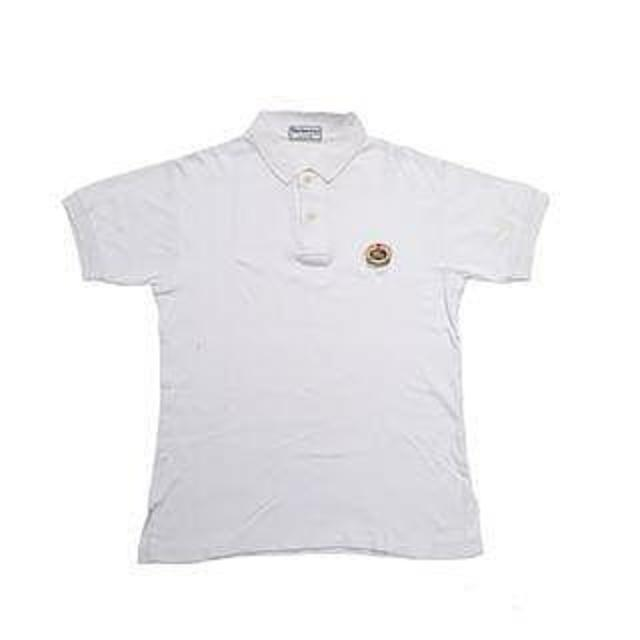T_SHIRT: (53, 102, 565, 570)
